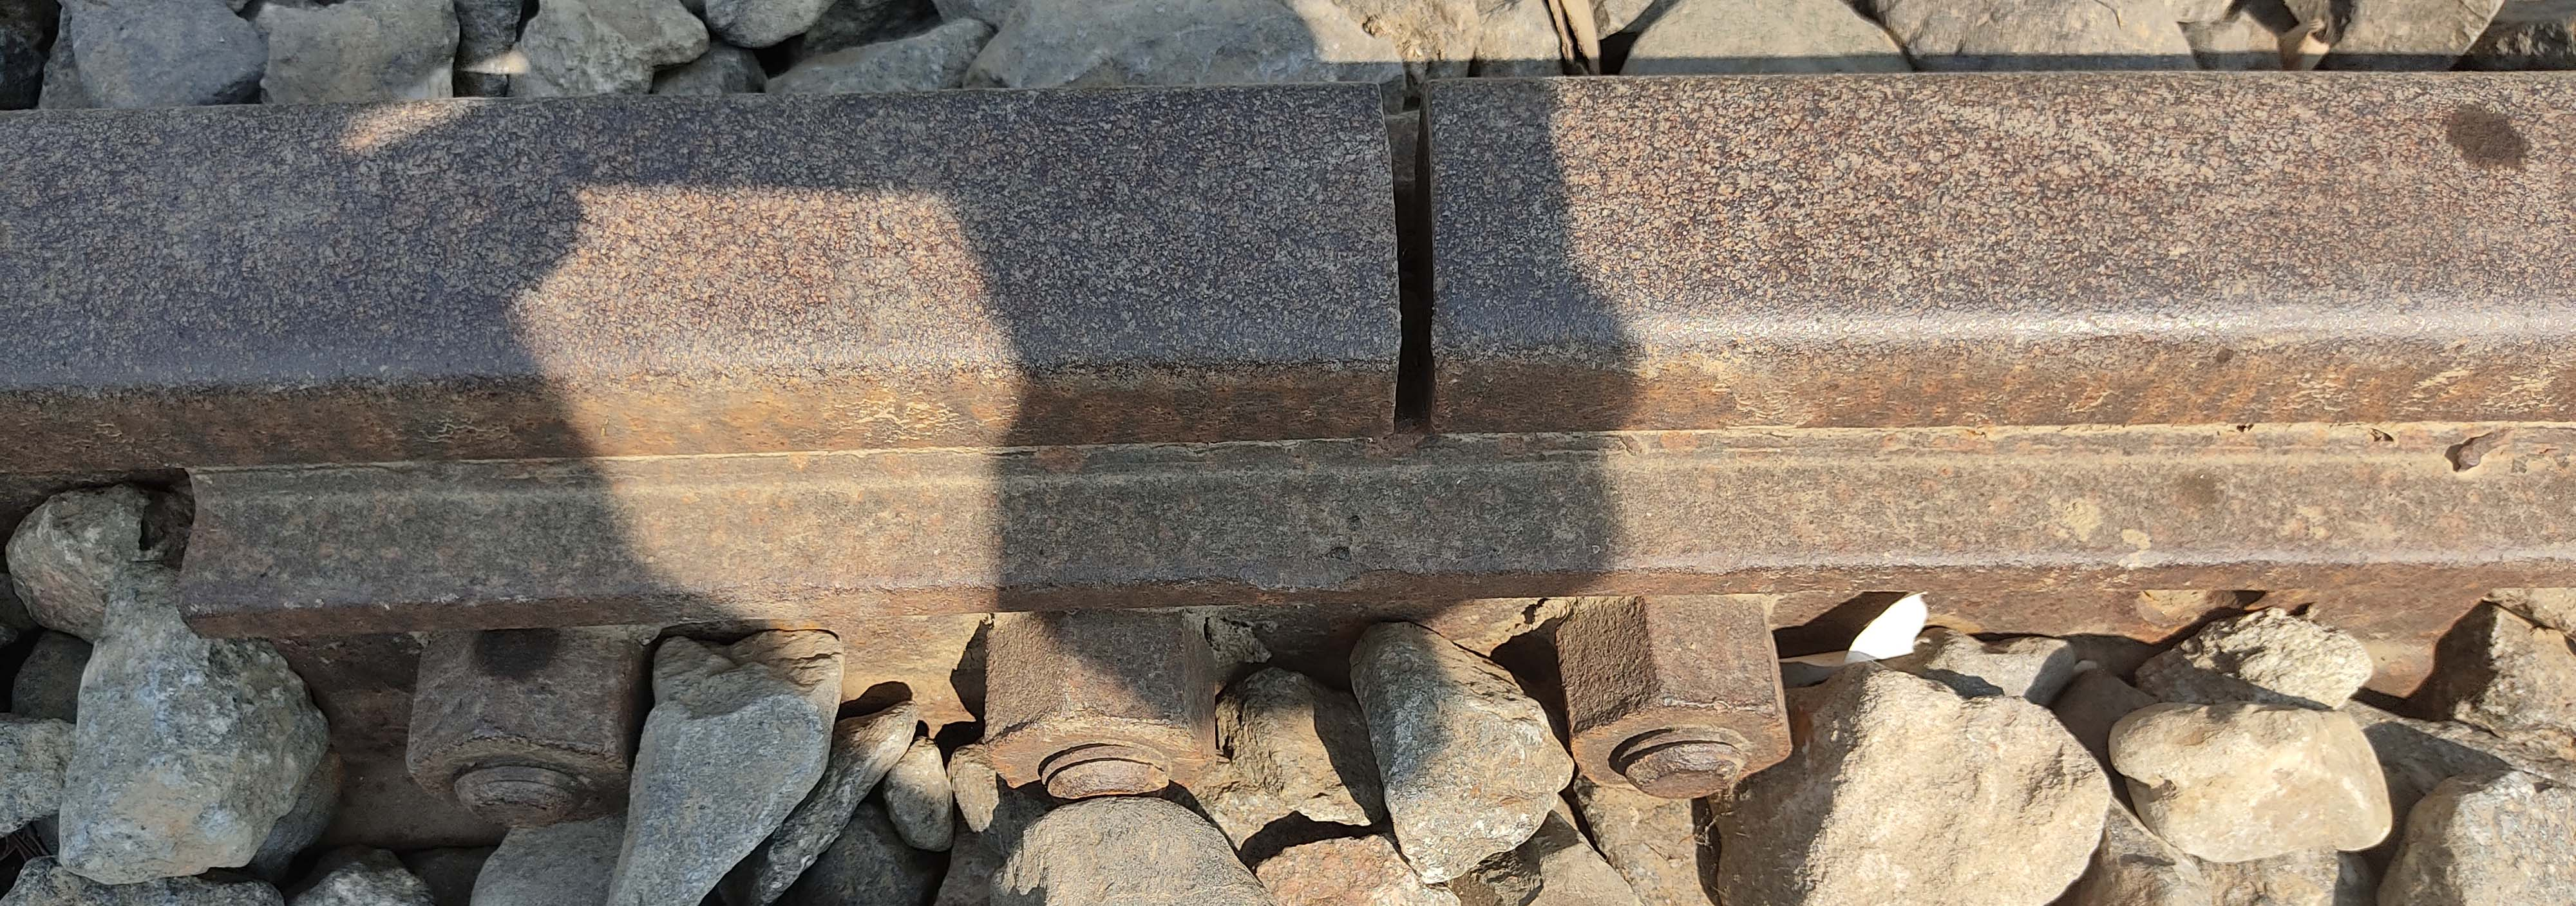error2: (1342, 33, 1513, 492)
